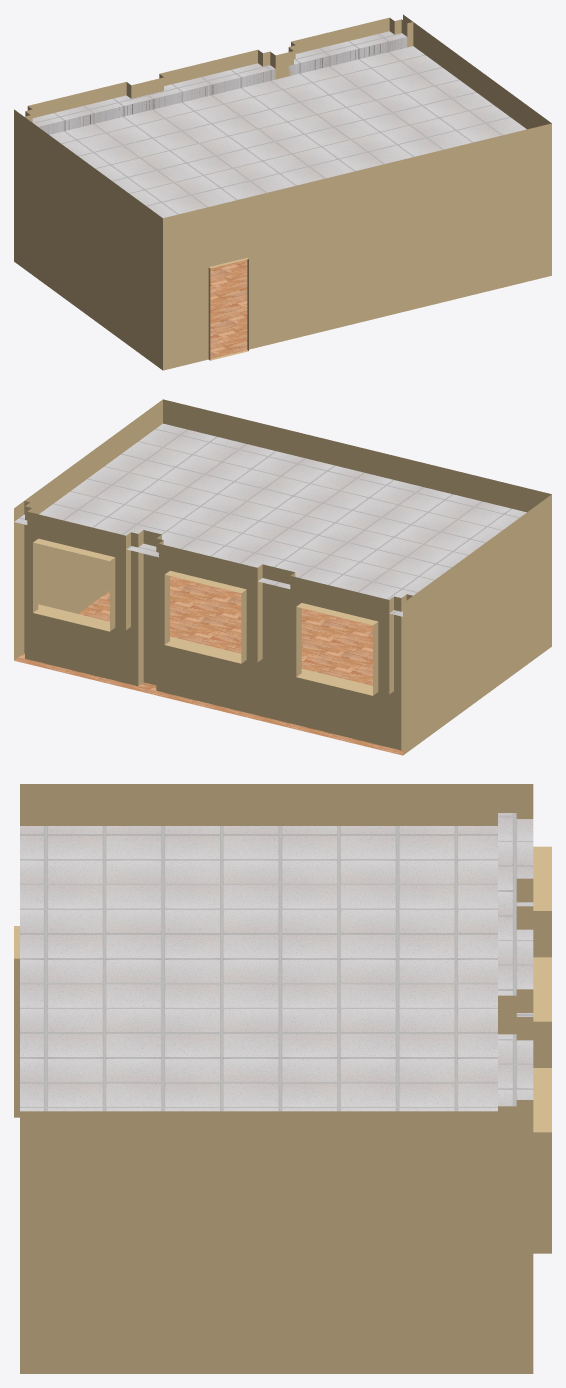
Rendered from room3_1.glb.
3 views of the same model, one above another, from view 1: azimuth 30°, elevation 25°; view 2: azimuth 150°, elevation 25°; view 3: azimuth 270°, elevation 25° (orthographic). The views are drawn at different scales.
Visible parts, largest first — view 1: 4et.006; view 2: 4et.006; view 3: 4et.006.
Part boxes in pixels (bbox=[...]): 4et.006: bbox=[14, 14, 551, 370]; 4et.006: bbox=[14, 399, 551, 755]; 4et.006: bbox=[14, 784, 551, 1373].
Size of the model in its own units: 8.82 by 3.3 by 6.13.
3 materials, 2 textured.
